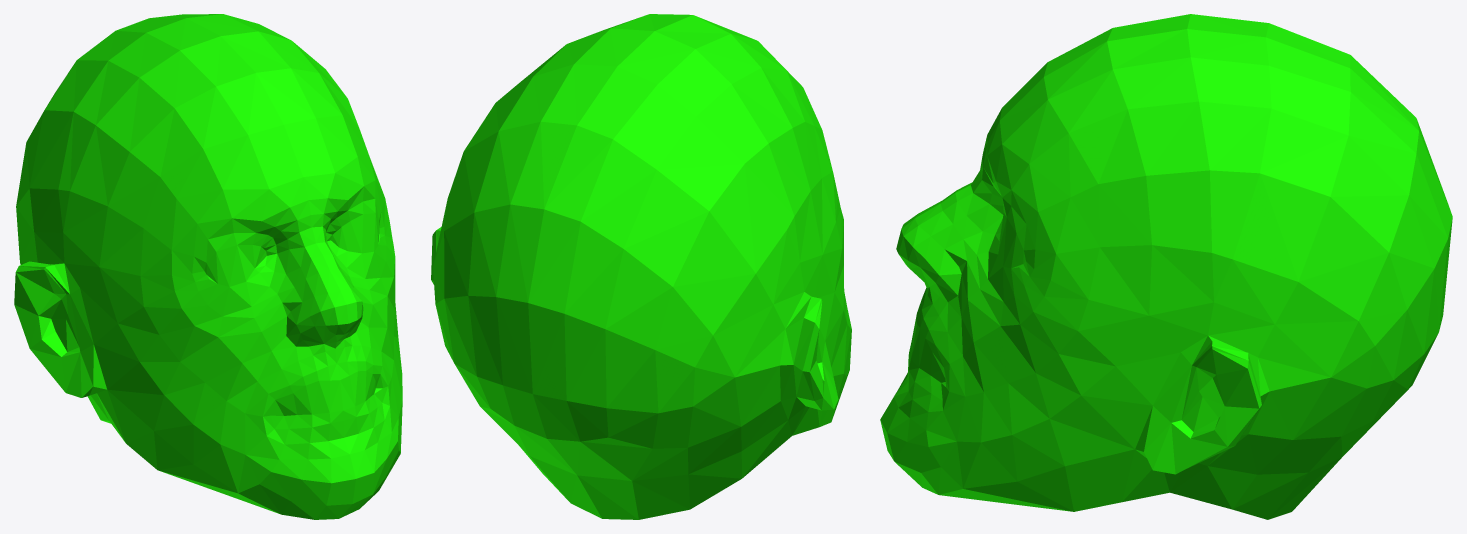
File: occluder.glb
3 views of the same model, side by side, from view 1: azimuth 30°, elevation 25°; view 2: azimuth 150°, elevation 25°; view 3: azimuth 270°, elevation 25° (orthographic). The views are drawn at different scales.
Visible parts, largest first — view 1: faceOccluder; view 2: faceOccluder; view 3: faceOccluder.
Boxes of the visible parts, x1,y1,x2,y2 form: faceOccluder: [14, 14, 402, 519]; faceOccluder: [431, 14, 851, 519]; faceOccluder: [880, 14, 1452, 519].
Size of the model in its own units: 159 by 177 by 195.
